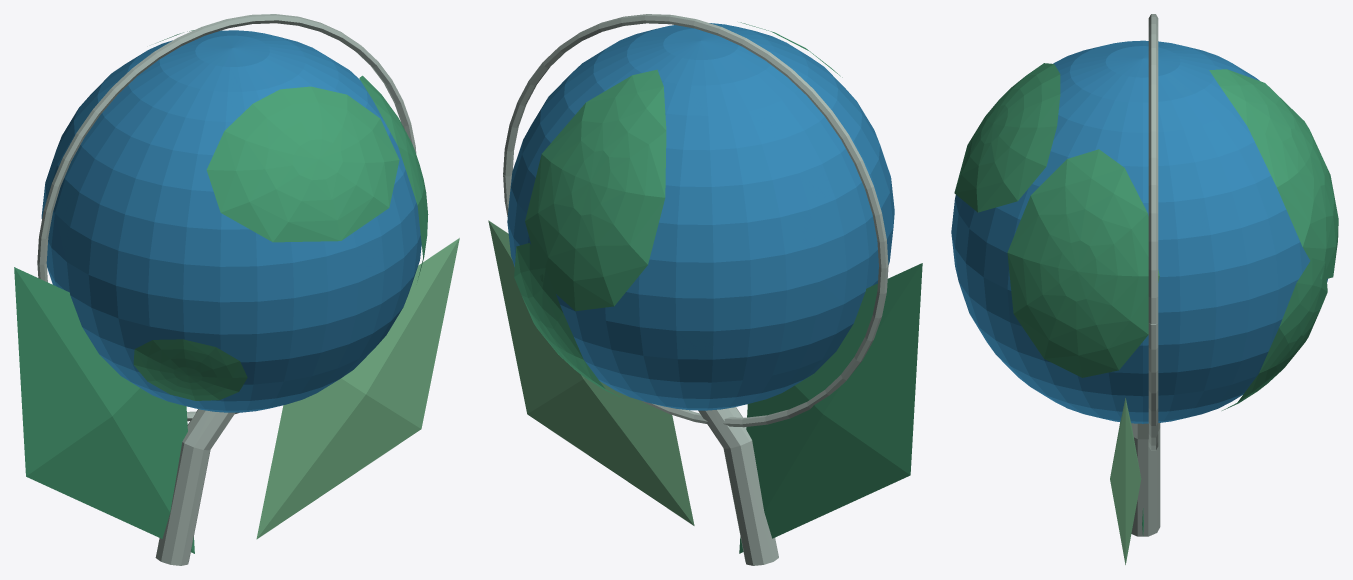
The model's file is PLAZA-005.glb.
The picture shows the model from 3 angles, left to right: view 1: azimuth 30°, elevation 25°; view 2: azimuth 150°, elevation 25°; view 3: azimuth 270°, elevation 25°; orthographic projection.
Parts seen in each view (by area): view 1: PLAZA-005; view 2: PLAZA-005; view 3: PLAZA-005.
Boxes of the visible parts, bbox=[...] form: PLAZA-005: bbox=[14, 14, 459, 565]; PLAZA-005: bbox=[488, 14, 922, 565]; PLAZA-005: bbox=[951, 14, 1338, 564].
Bounding box in the file's own units: 2.9 × 3.32 × 2.22.
